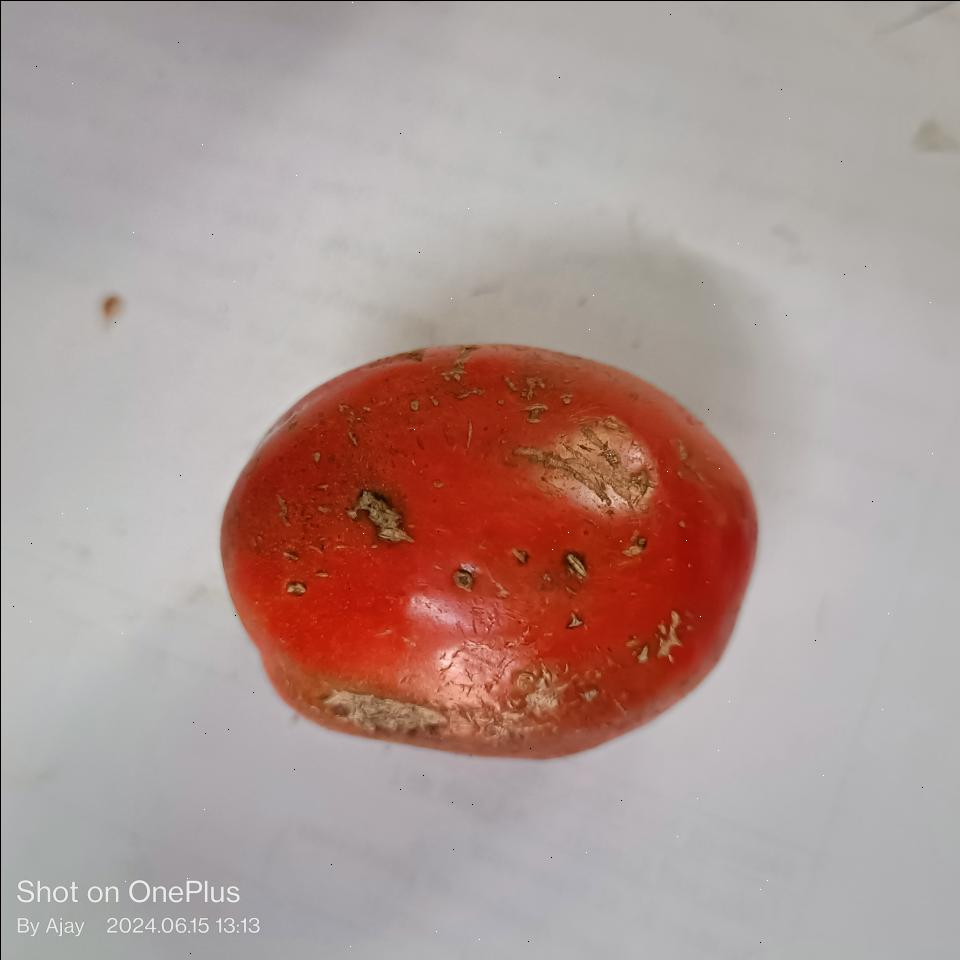Bacterial_Spot: (521, 420, 663, 518), (308, 683, 448, 747), (337, 484, 423, 548), (440, 554, 489, 600), (552, 544, 590, 590)
